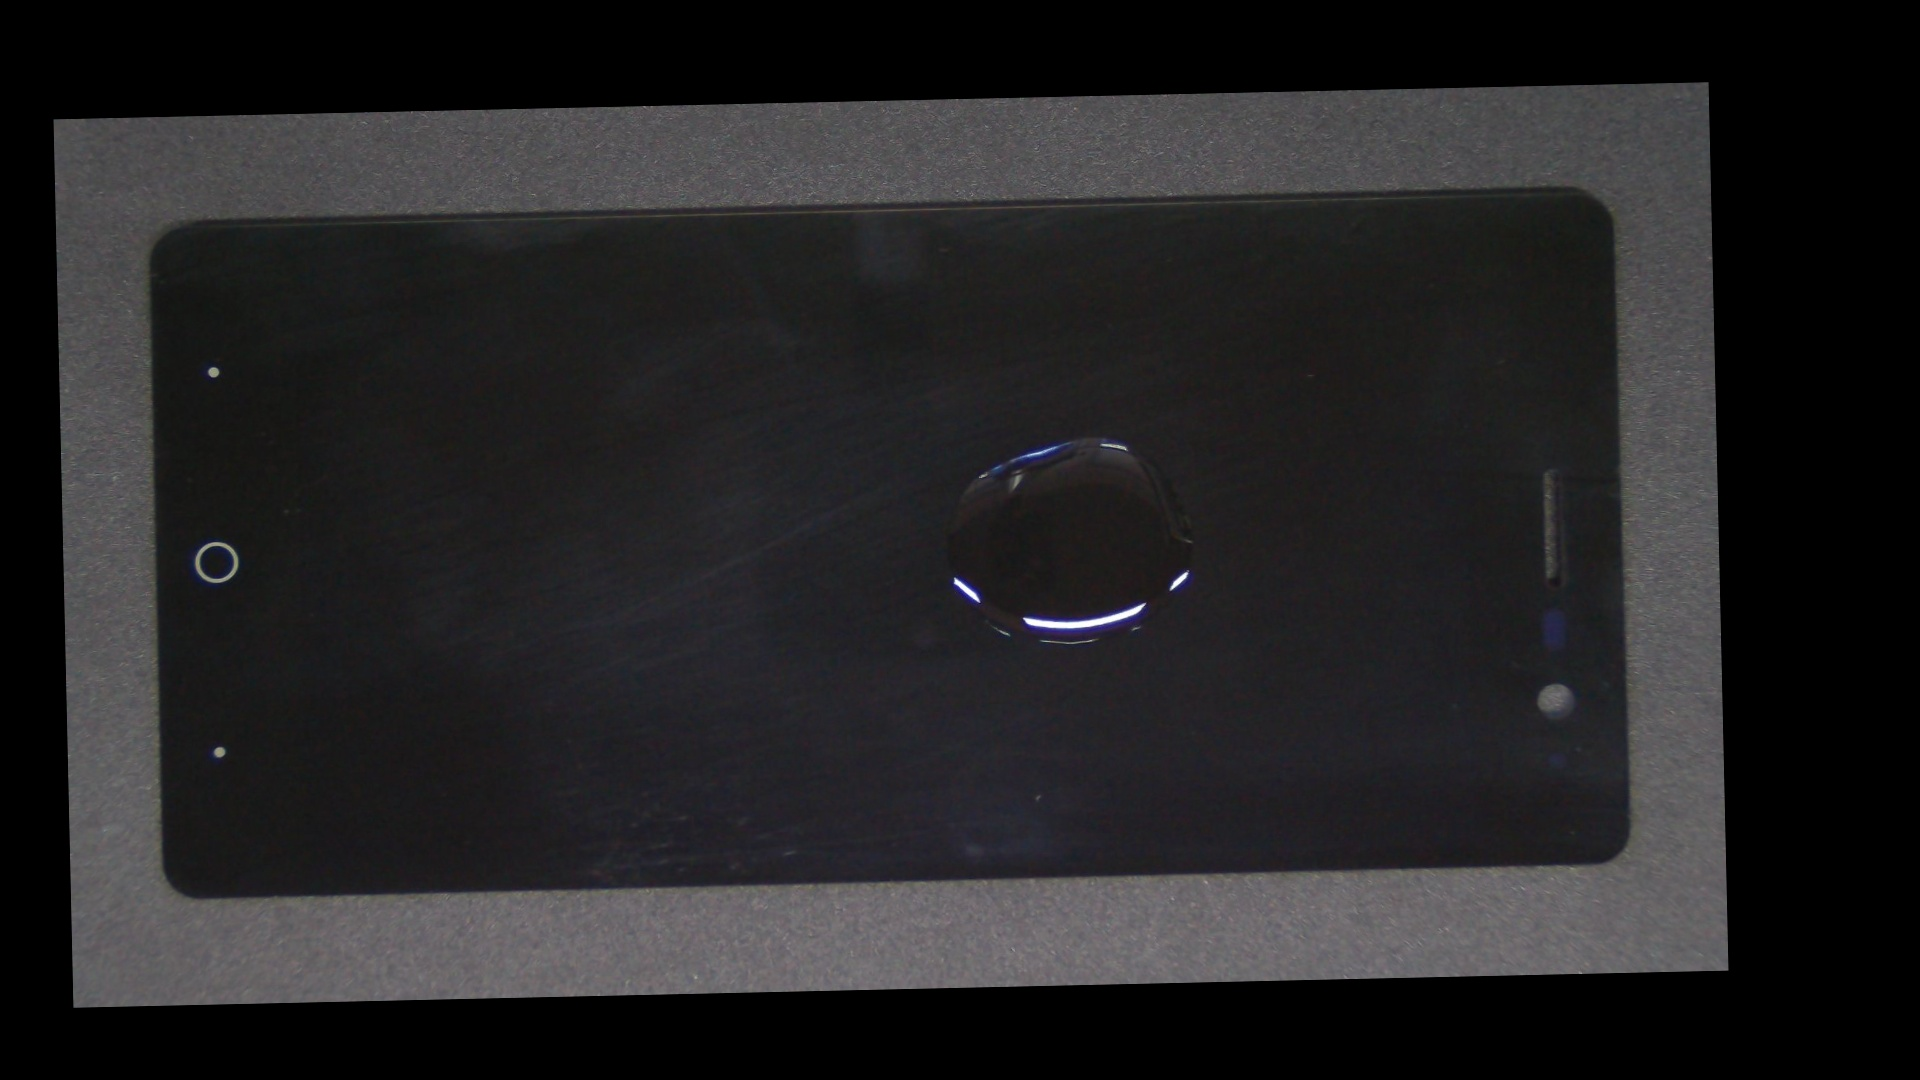oil: (579, 253, 1627, 617)
